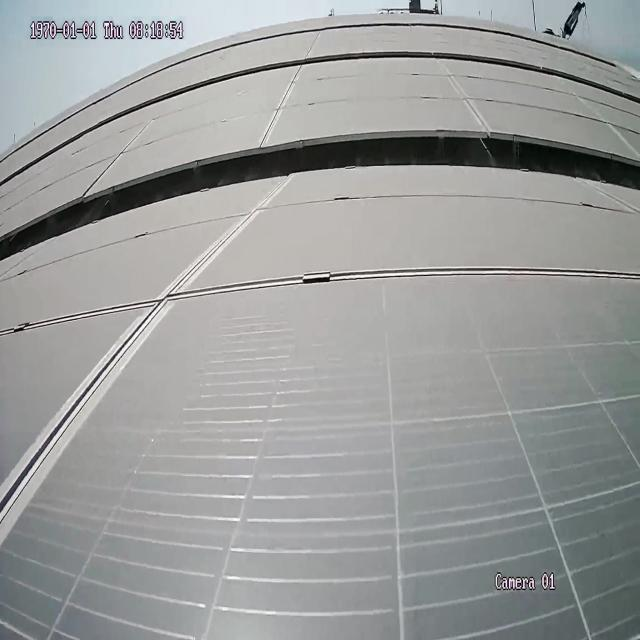interior panel: (1, 179, 640, 551)
outher panel: (0, 124, 638, 261), (87, 119, 161, 188), (439, 66, 487, 119), (258, 75, 299, 136)
